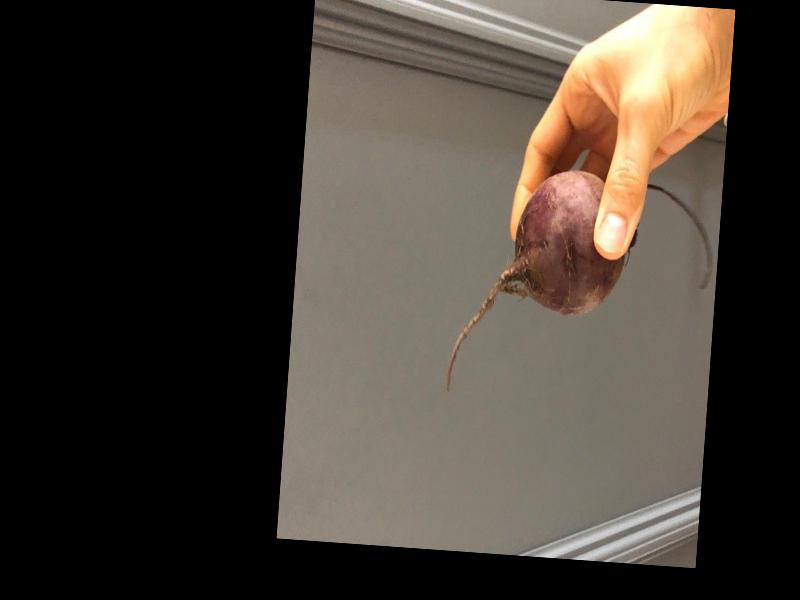Beet: (446, 163, 718, 412)
